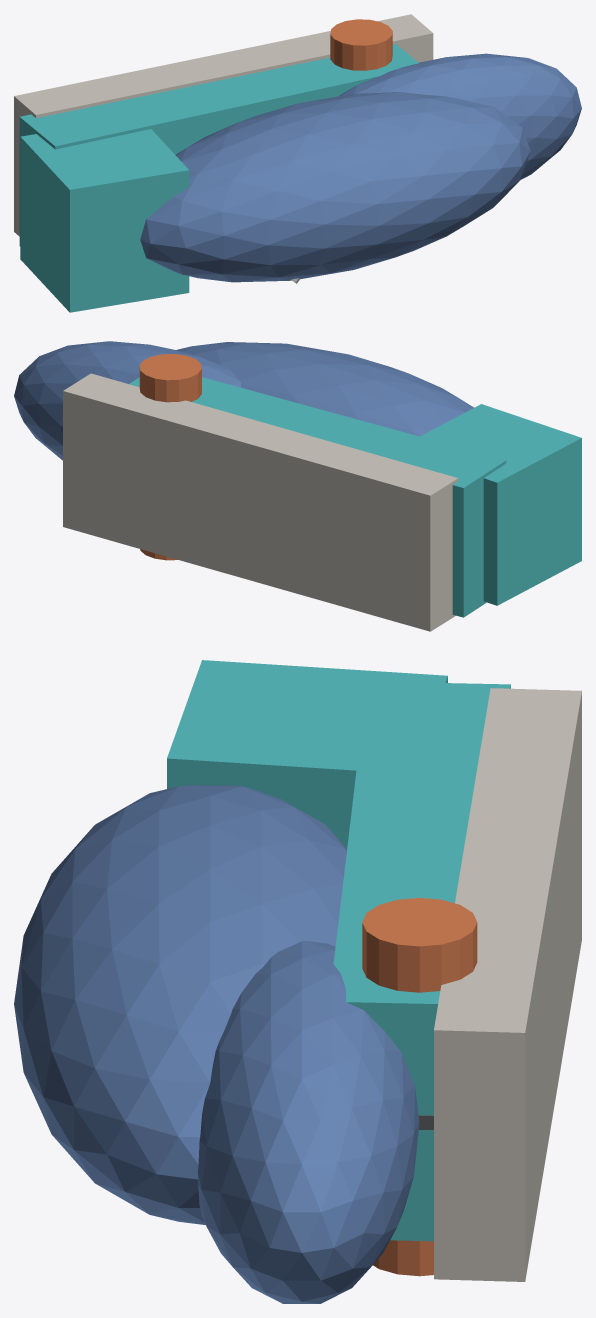
3 renders of one model, top to bottom at view 1: azimuth 30°, elevation 25°; view 2: azimuth 150°, elevation 25°; view 3: azimuth 270°, elevation 25°, orthographic. The views are drawn at different scales.
Parts seen in each view (by area): view 1: geometry_0; view 2: geometry_0; view 3: geometry_0.
Boxes of the visible parts, bbox=[...] form: geometry_0: bbox=[14, 14, 581, 312]; geometry_0: bbox=[14, 341, 581, 631]; geometry_0: bbox=[14, 660, 581, 1303].
Size of the model in its own units: 0.4341 by 0.139 by 0.217.
